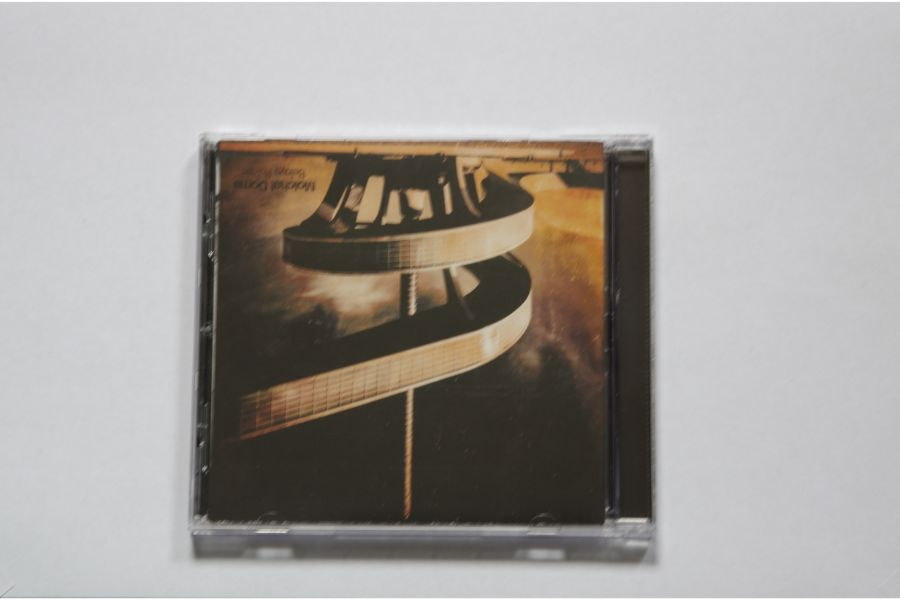album: (181, 130, 659, 545)
